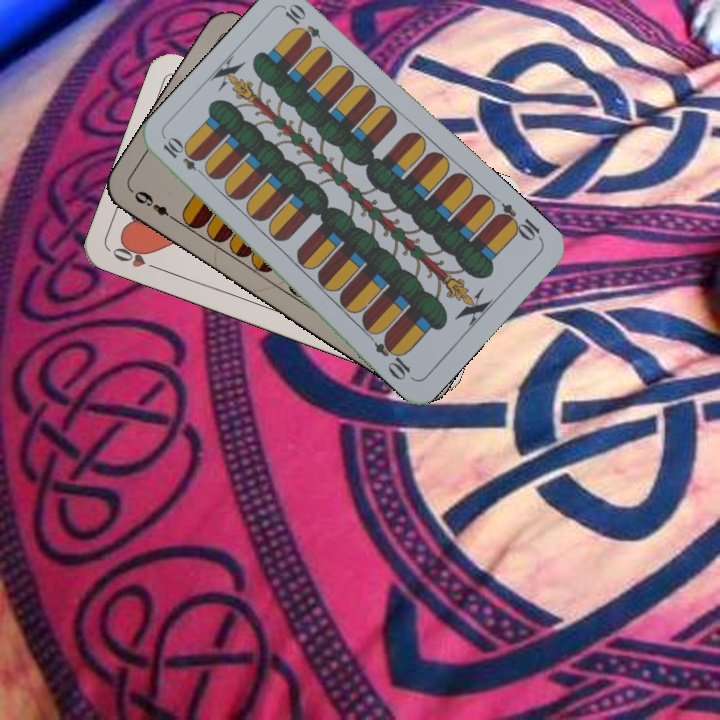E10: (492, 199, 545, 244), (159, 134, 210, 180)
E9: (129, 186, 180, 225)
HO: (108, 239, 164, 274)
